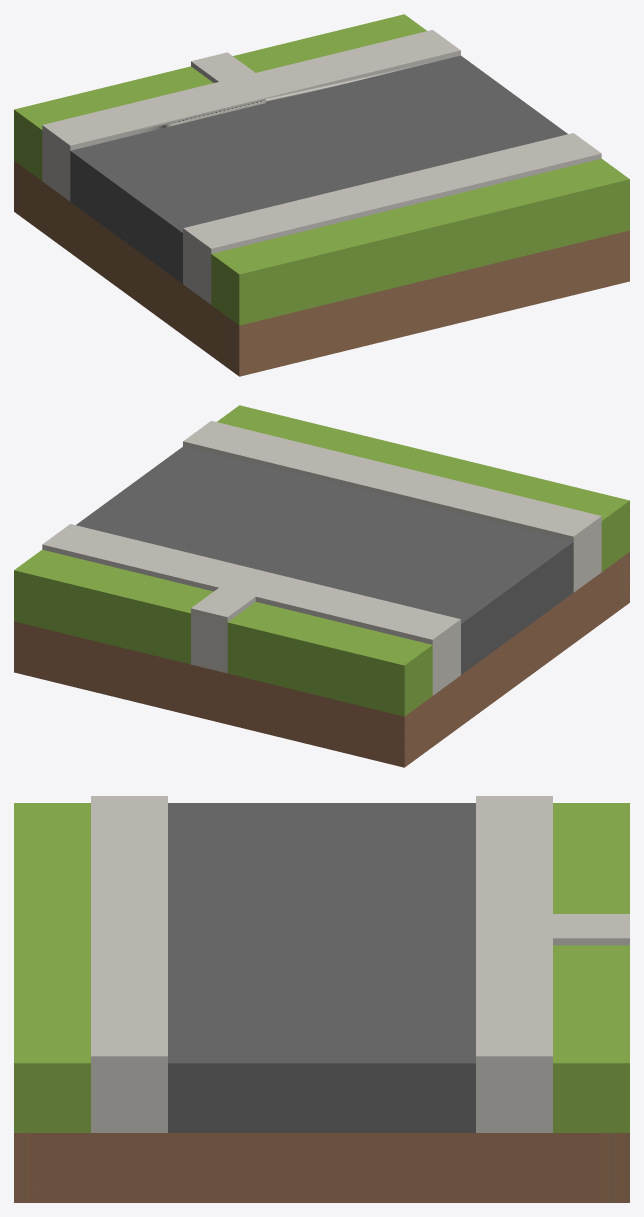
File: road-straight-house1.obj
The picture shows the model from 3 angles, top to bottom: view 1: azimuth 30°, elevation 25°; view 2: azimuth 150°, elevation 25°; view 3: azimuth 270°, elevation 25°; orthographic projection. The views are drawn at different scales.
Parts seen in each view (by area): view 1: road-straight-house-1-low_Cube.044; view 2: road-straight-house-1-low_Cube.044; view 3: road-straight-house-1-low_Cube.044.
Boxes of the visible parts, left/top/right/bottom form: road-straight-house-1-low_Cube.044: left=14, top=14, right=629, bottom=376; road-straight-house-1-low_Cube.044: left=14, top=405, right=629, bottom=767; road-straight-house-1-low_Cube.044: left=14, top=796, right=629, bottom=1202.
Size of the model in its own units: 8 by 2.1 by 8.
